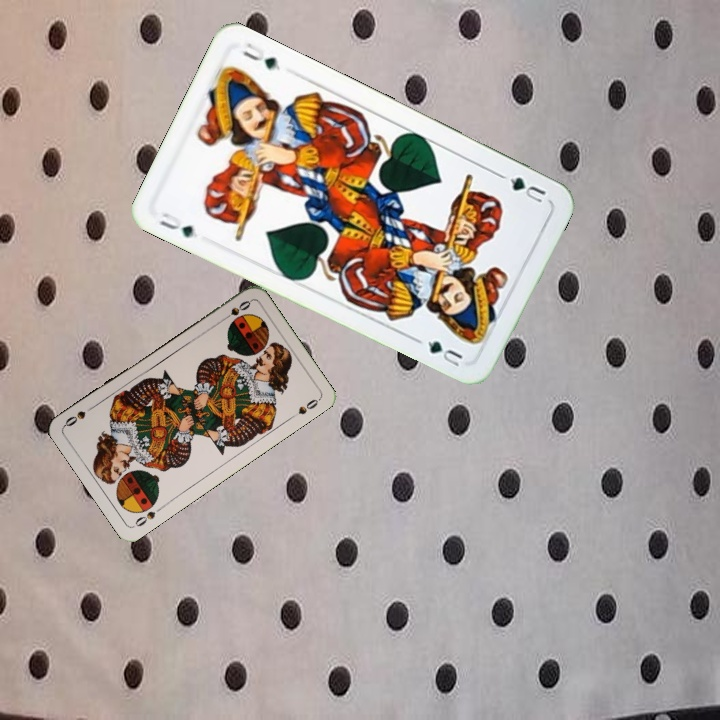GU: (155, 208, 200, 241), (505, 172, 548, 205)
SO: (217, 296, 253, 324), (130, 507, 158, 529)
